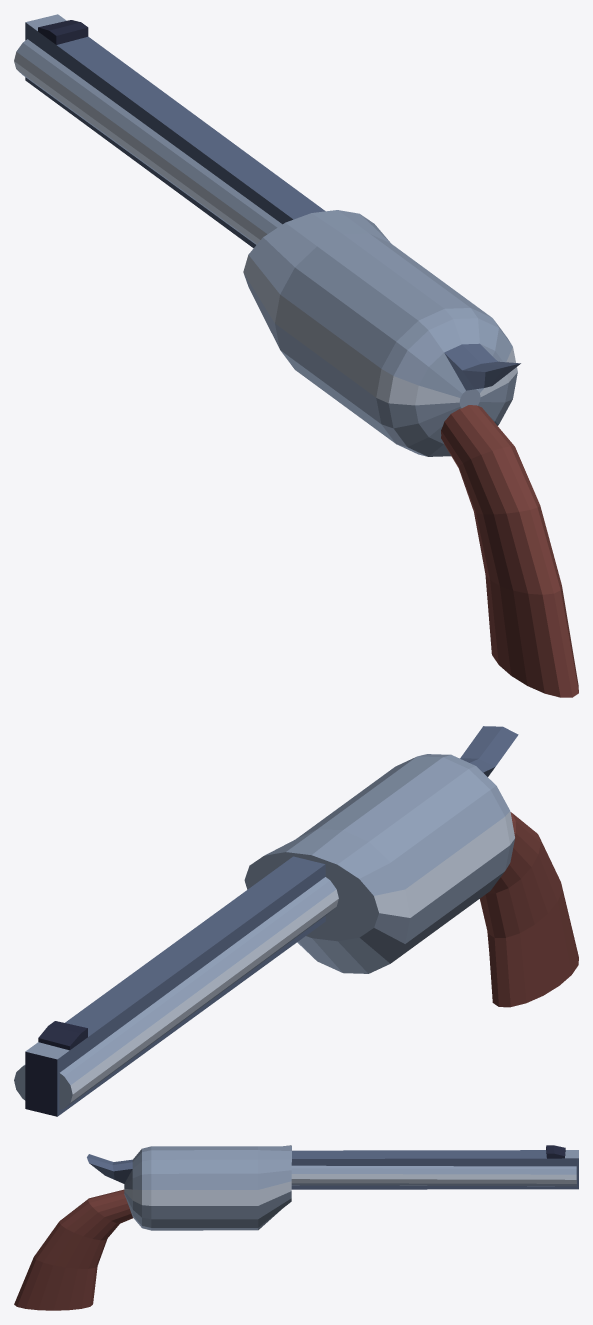
Rendered from Pistola.fbx.
3 views of the same model, one above another, from view 1: azimuth 30°, elevation 25°; view 2: azimuth 150°, elevation 25°; view 3: azimuth 270°, elevation 25° (orthographic). The views are drawn at different scales.
Parts seen in each view (by area): view 1: Cylinder.001; view 2: Cylinder.001; view 3: Cylinder.001.
Boxes of the visible parts, x1,y1,x2,y2 form: Cylinder.001: [14, 14, 578, 697]; Cylinder.001: [14, 726, 578, 1116]; Cylinder.001: [14, 1145, 578, 1310].
Bounding box in the file's own units: 9.81 × 20.3 × 66.57.
1 material, 1 textured.
